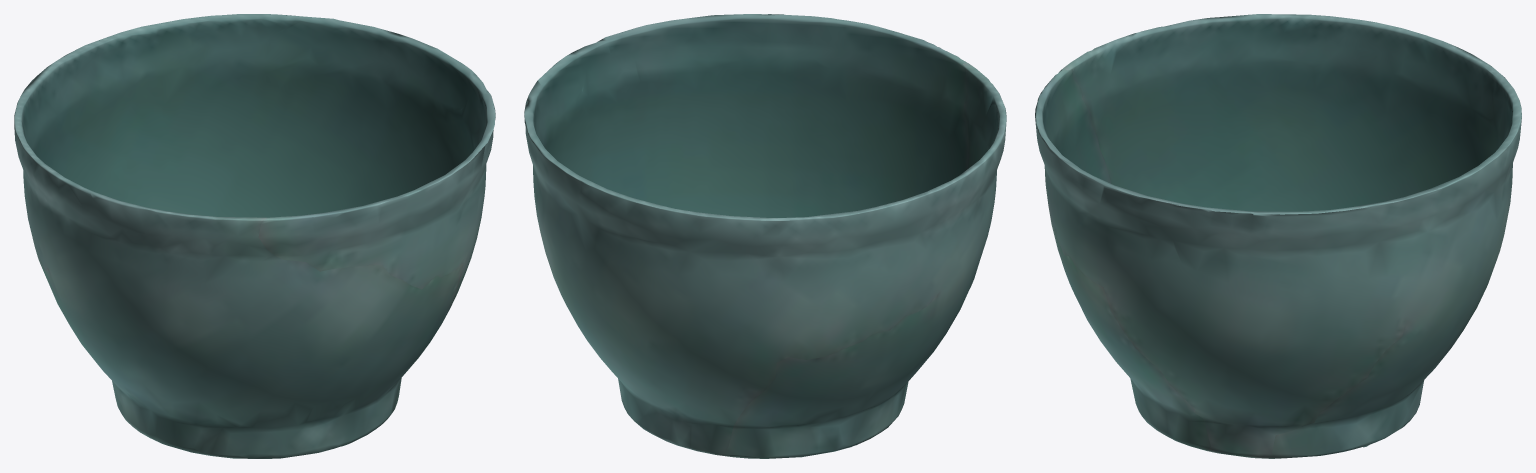
File: Ecoforms_Plant_Container_FB6_Tur-high.glb
The picture shows the model from 3 angles, left to right: view 1: azimuth 30°, elevation 25°; view 2: azimuth 150°, elevation 25°; view 3: azimuth 270°, elevation 25°; orthographic projection.
Visible parts, largest first — view 1: Ecoforms_Plant_Container_FB6_Tur; view 2: Ecoforms_Plant_Container_FB6_Tur; view 3: Ecoforms_Plant_Container_FB6_Tur.
Boxes of the visible parts, bbox=[...] form: Ecoforms_Plant_Container_FB6_Tur: bbox=[14, 14, 495, 458]; Ecoforms_Plant_Container_FB6_Tur: bbox=[524, 14, 1006, 458]; Ecoforms_Plant_Container_FB6_Tur: bbox=[1035, 14, 1521, 458].
Size of the model in its own units: 0.1615 by 0.1085 by 0.1617.
Materials: 1 (1 with a texture image).
